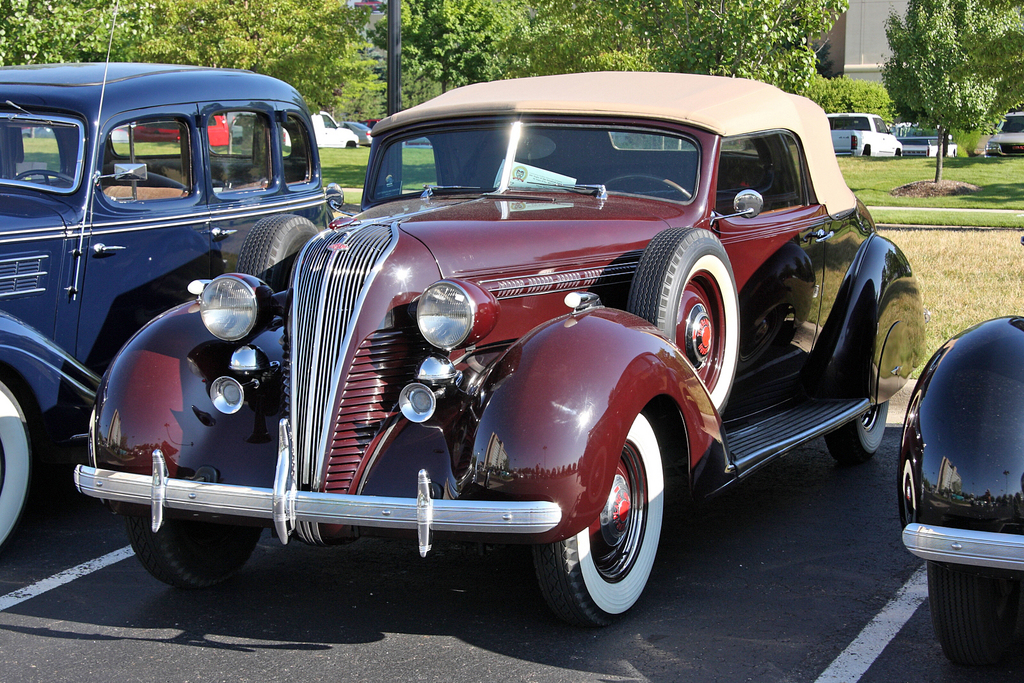Car: (74, 72, 933, 630), (0, 8, 330, 553), (897, 315, 1023, 666), (830, 118, 906, 159), (988, 112, 1022, 154)
